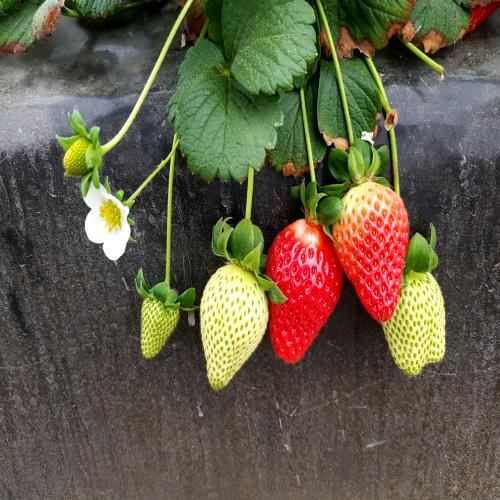ripe: (335, 176, 414, 336), (270, 201, 338, 369)
